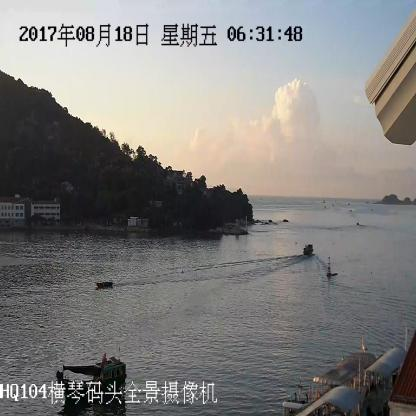Fishing Boat: (56, 356, 128, 379), (96, 281, 112, 289)
